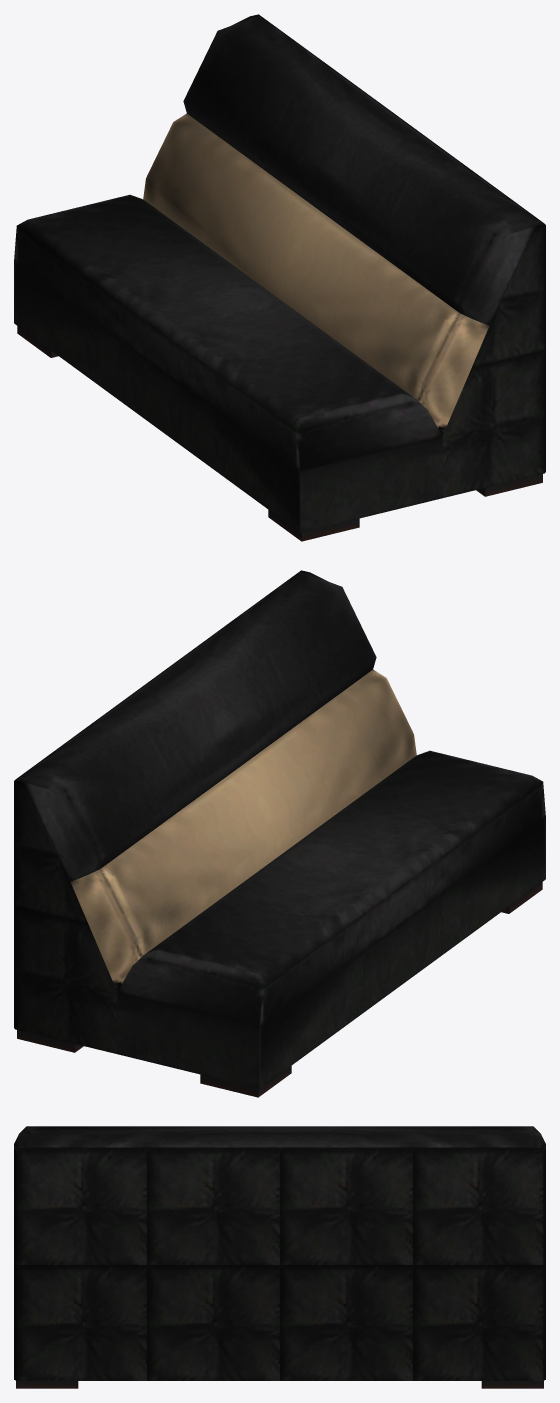
Rendered from Couch02.FBX.
The picture shows the model from 3 angles, top to bottom: view 1: azimuth 30°, elevation 25°; view 2: azimuth 150°, elevation 25°; view 3: azimuth 270°, elevation 25°; orthographic projection. The views are drawn at different scales.
Visible parts, largest first — view 1: Couch02; view 2: Couch02; view 3: Couch02.
Boxes of the visible parts, bbox=[...] form: Couch02: bbox=[14, 14, 545, 541]; Couch02: bbox=[14, 570, 545, 1097]; Couch02: bbox=[14, 1126, 545, 1388].
Bounding box in the file's own units: 0.9965 × 1.03 × 2.
